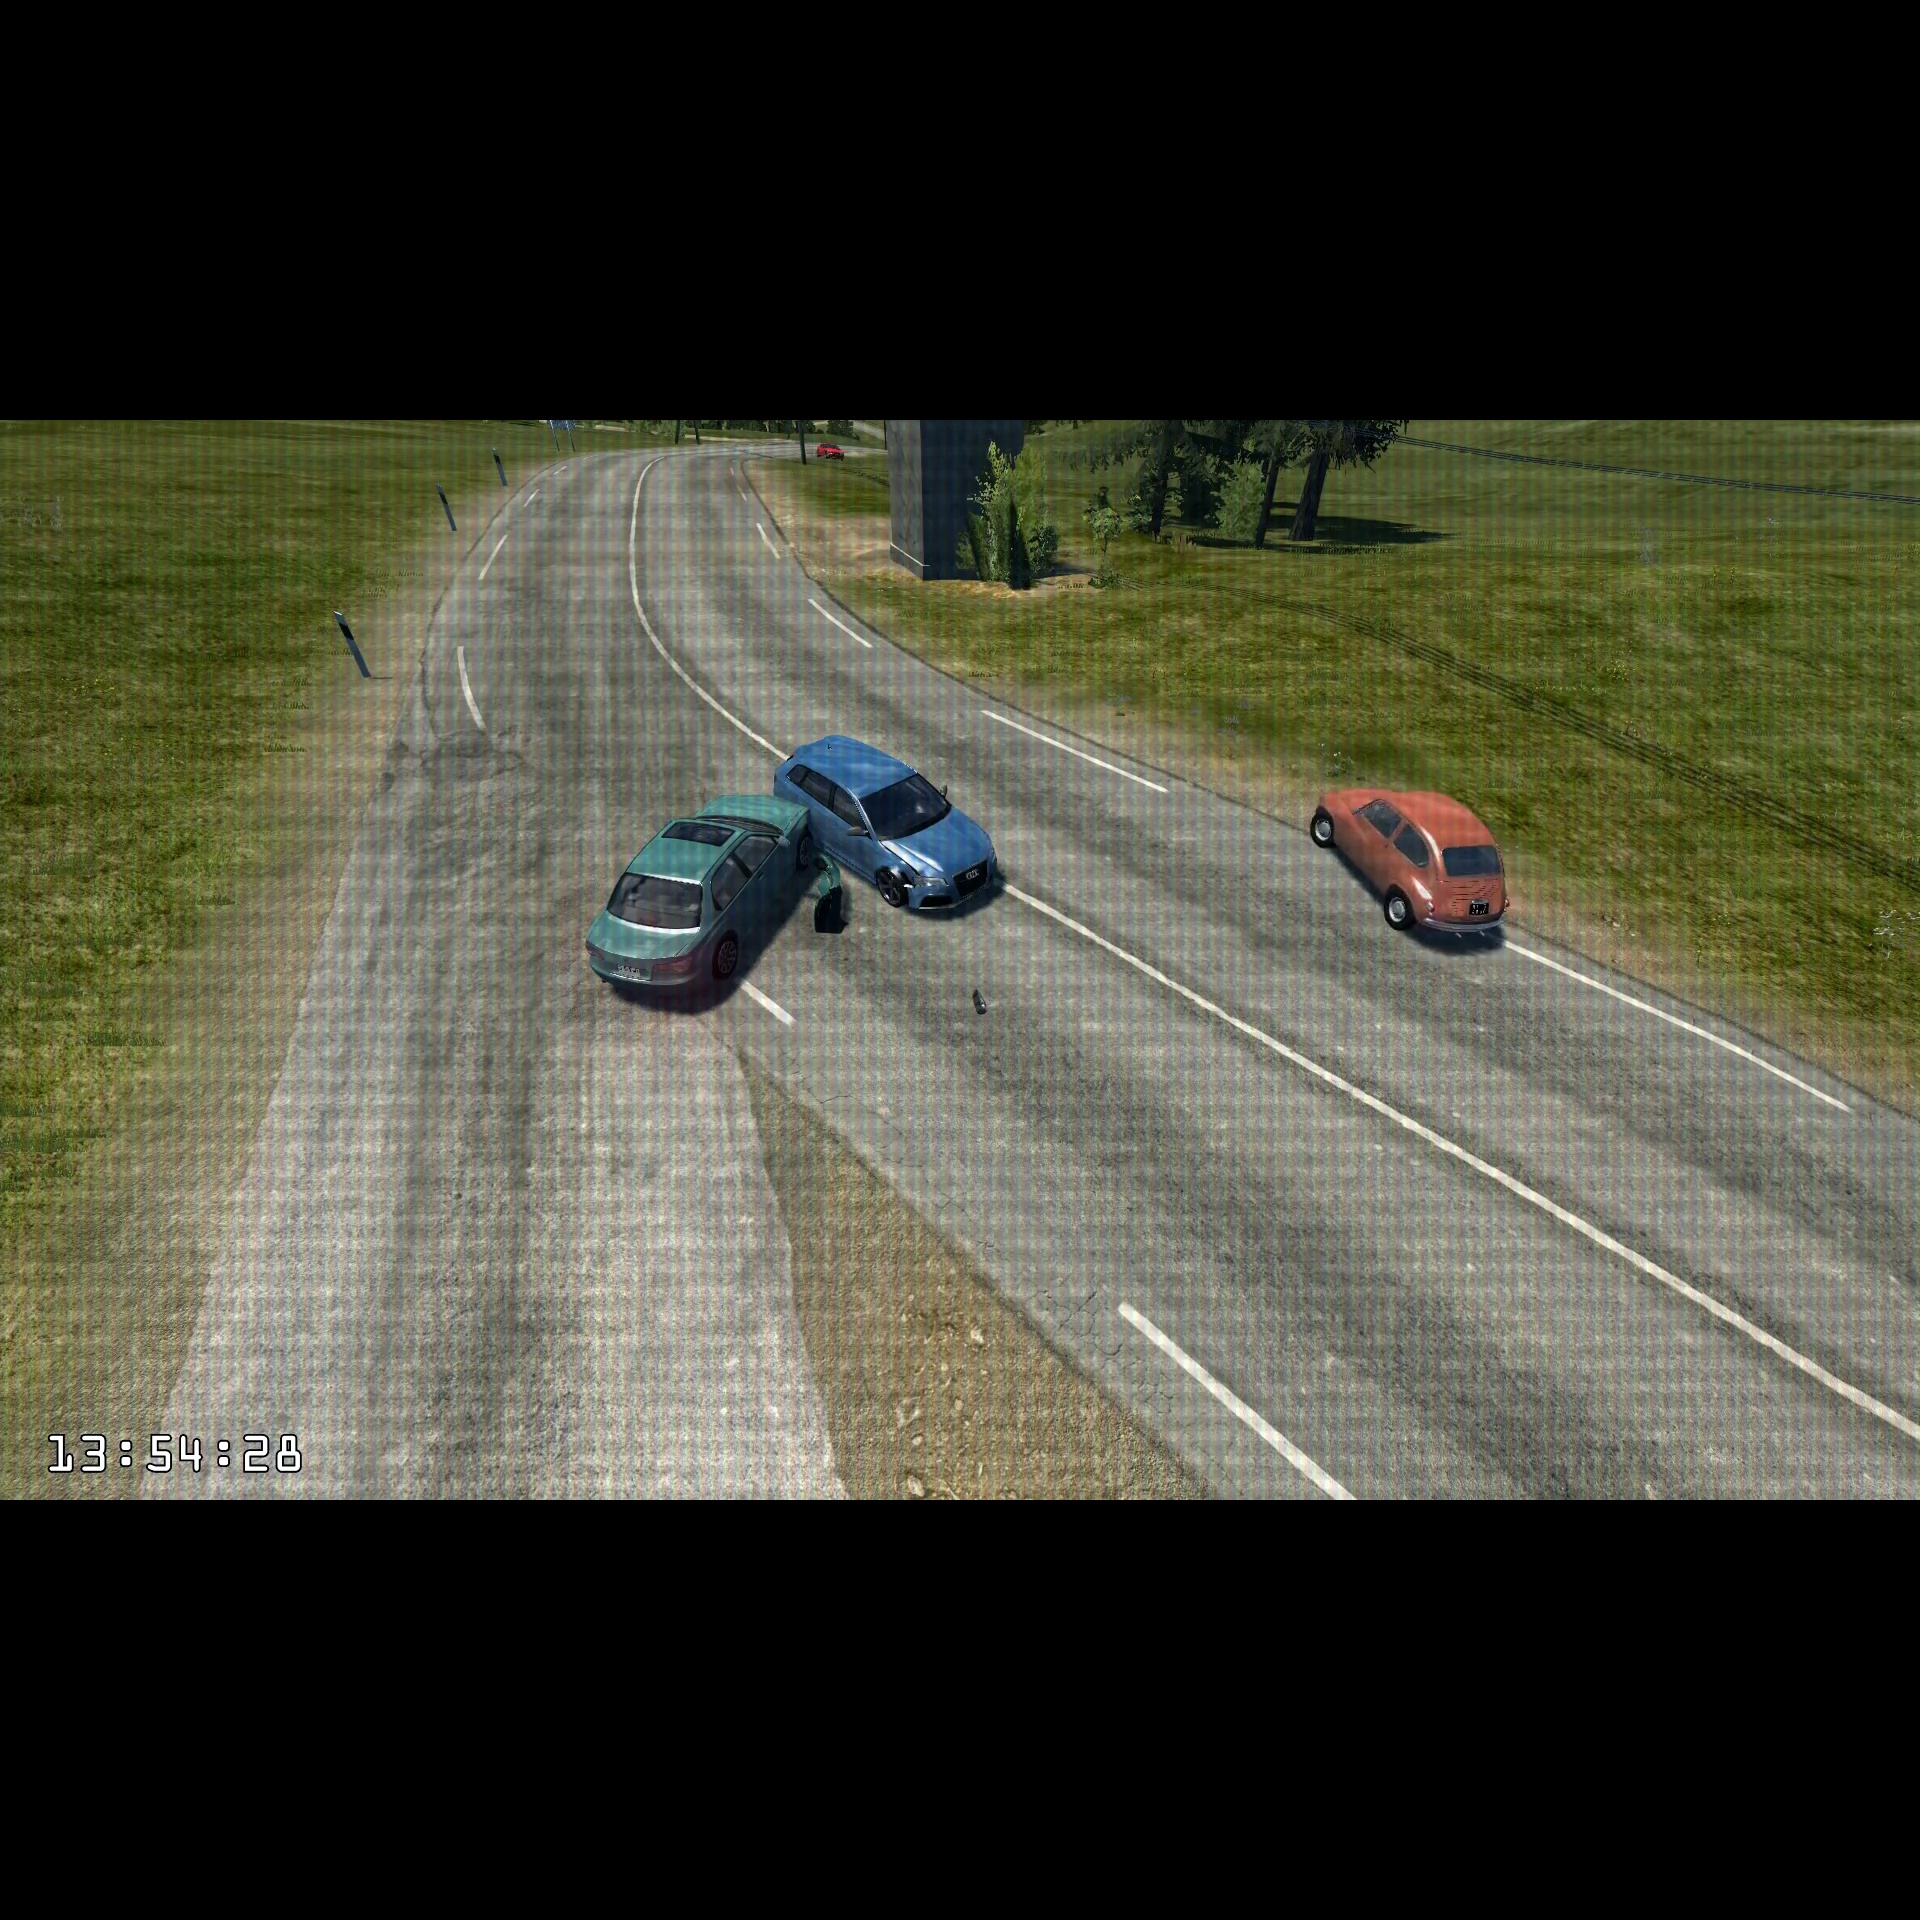vehicle: (573, 788, 816, 1007), (768, 731, 1006, 921), (1308, 782, 1519, 942), (814, 440, 847, 462)
